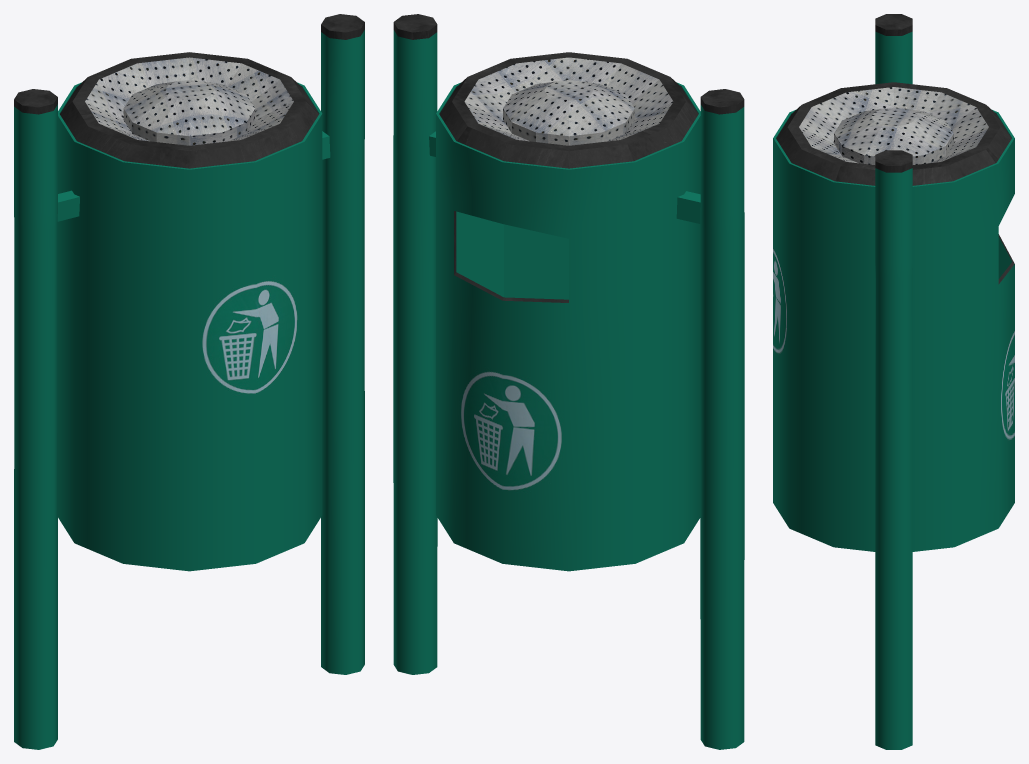
The model's file is bin.FBX.
The picture shows the model from 3 angles, left to right: view 1: azimuth 30°, elevation 25°; view 2: azimuth 150°, elevation 25°; view 3: azimuth 270°, elevation 25°; orthographic projection. The views are drawn at different scales.
Parts seen in each view (by area): view 1: Cylinder002; view 2: Cylinder002; view 3: Cylinder002.
Boxes of the visible parts, x1,y1,x2,y2 form: Cylinder002: (14,14,364,749); Cylinder002: (393,14,744,749); Cylinder002: (773,14,1014,749).
Size of the model in its own units: 17.6 by 31.5 by 11.81.
Materials: 3 (3 with a texture image).
